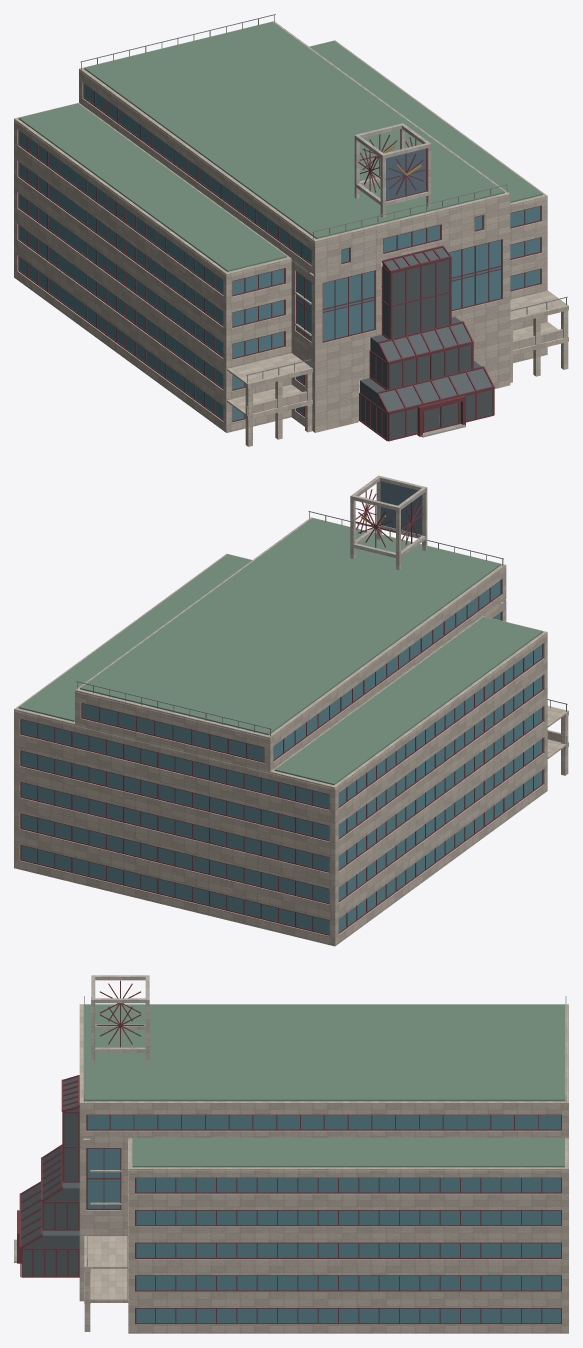
3 views of the same model, one above another, from view 1: azimuth 30°, elevation 25°; view 2: azimuth 150°, elevation 25°; view 3: azimuth 270°, elevation 25° (orthographic). The views are drawn at different scales.
Parts seen in each view (by area): view 1: mueunjae__stone, mueunjae__roof, mueunjae__glass, mueunjae__frame, mueunjae__atrium_glass, mueunjae__tower, mueunjae__column, mueunjae__clock_glass, mueunjae__metal; view 2: mueunjae__roof, mueunjae__stone, mueunjae__glass, mueunjae__frame, mueunjae__tower, mueunjae__clock_glass, mueunjae__metal; view 3: mueunjae__roof, mueunjae__stone, mueunjae__glass, mueunjae__frame, mueunjae__atrium_glass, mueunjae__tower.
Part boxes in pixels (left/top/right/bottom): mueunjae__stone: left=14, top=21, right=568, bottom=432; mueunjae__roof: left=18, top=21, right=542, bottom=271; mueunjae__glass: left=19, top=84, right=540, bottom=420; mueunjae__frame: left=18, top=83, right=541, bottom=441; mueunjae__atrium_glass: left=360, top=248, right=492, bottom=440; mueunjae__tower: left=354, top=123, right=431, bottom=217; mueunjae__column: left=245, top=310, right=568, bottom=446; mueunjae__clock_glass: left=386, top=148, right=425, bottom=200; mueunjae__metal: left=80, top=14, right=567, bottom=422; mueunjae__roof: left=18, top=518, right=542, bottom=785; mueunjae__stone: left=14, top=517, right=568, bottom=946; mueunjae__glass: left=21, top=580, right=542, bottom=934; mueunjae__frame: left=20, top=489, right=543, bottom=935; mueunjae__tower: left=350, top=475, right=427, bottom=569; mueunjae__clock_glass: left=380, top=481, right=422, bottom=534; mueunjae__metal: left=76, top=511, right=567, bottom=736; mueunjae__roof: left=83, top=1004, right=564, bottom=1167; mueunjae__stone: left=79, top=1004, right=568, bottom=1333; mueunjae__glass: left=87, top=1115, right=560, bottom=1322; mueunjae__frame: left=17, top=980, right=561, bottom=1324; mueunjae__atrium_glass: left=21, top=1077, right=79, bottom=1275; mueunjae__tower: left=91, top=975, right=149, bottom=1064.
Size of the model in its own units: 39.52 by 30.18 by 57.06.
11 materials, 4 textured.
